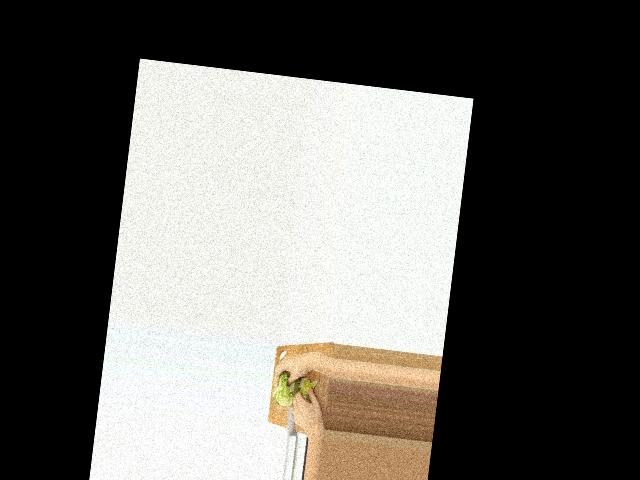lettuce: (272, 372, 298, 408)
